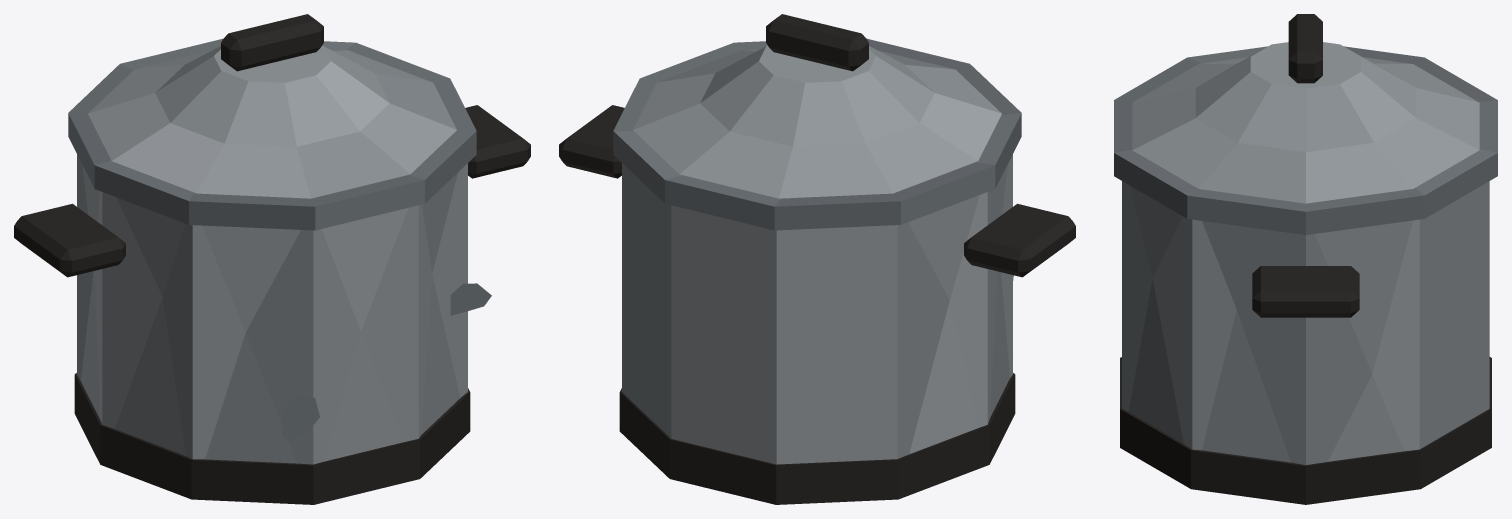
The model's file is cooking_pot_alyuminievaya_idle.glb.
The picture shows the model from 3 angles, left to right: view 1: azimuth 30°, elevation 25°; view 2: azimuth 150°, elevation 25°; view 3: azimuth 270°, elevation 25°; orthographic projection.
Parts seen in each view (by area): view 1: cooking_pot_alyuminievaya_idle; view 2: cooking_pot_alyuminievaya_idle; view 3: cooking_pot_alyuminievaya_idle.
Part boxes in pixels (<box>): cooking_pot_alyuminievaya_idle: <box>14,14,530,504</box>; cooking_pot_alyuminievaya_idle: <box>559,14,1075,504</box>; cooking_pot_alyuminievaya_idle: <box>1114,14,1497,504</box>.
Bounding box in the file's own units: 0.249 × 0.2 × 0.1834.
Materials: 1 (1 with a texture image).
